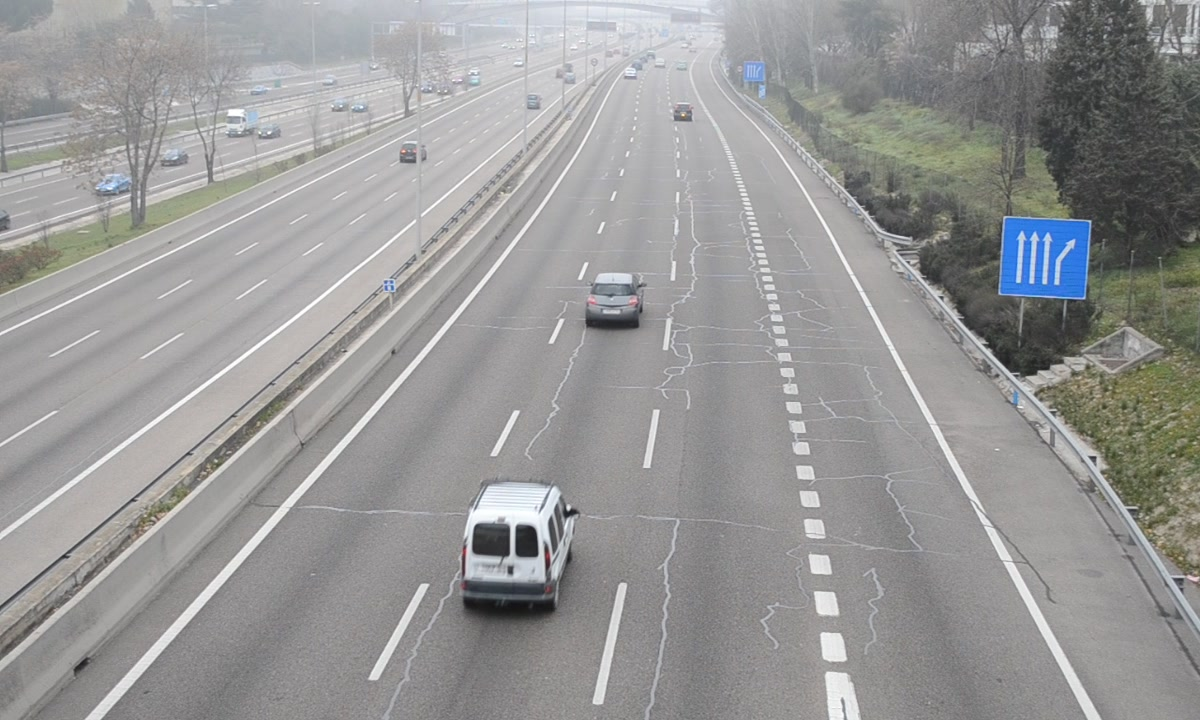car: (585, 271, 643, 324)
van: (460, 484, 576, 605)
